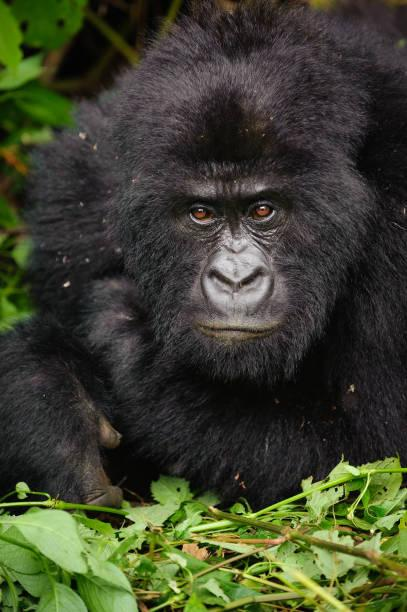goriile_montagne: (0, 0, 407, 520)
